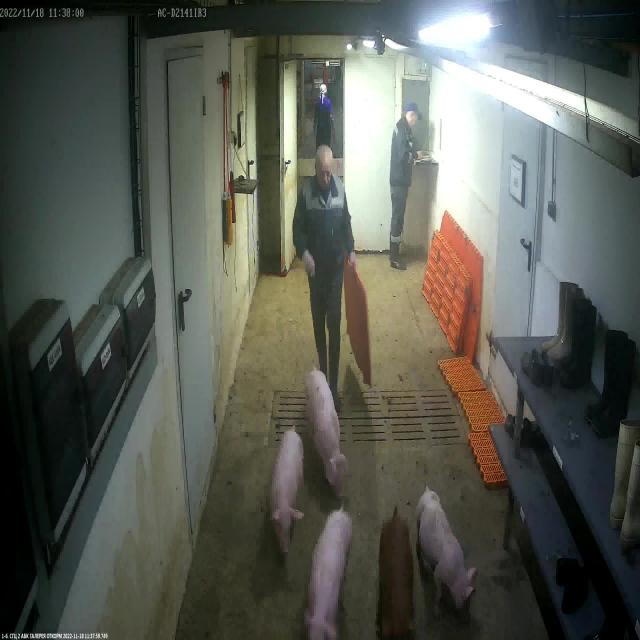pig: (416, 489, 477, 618), (305, 510, 353, 640), (306, 367, 348, 509), (378, 507, 418, 640), (270, 431, 305, 557)
